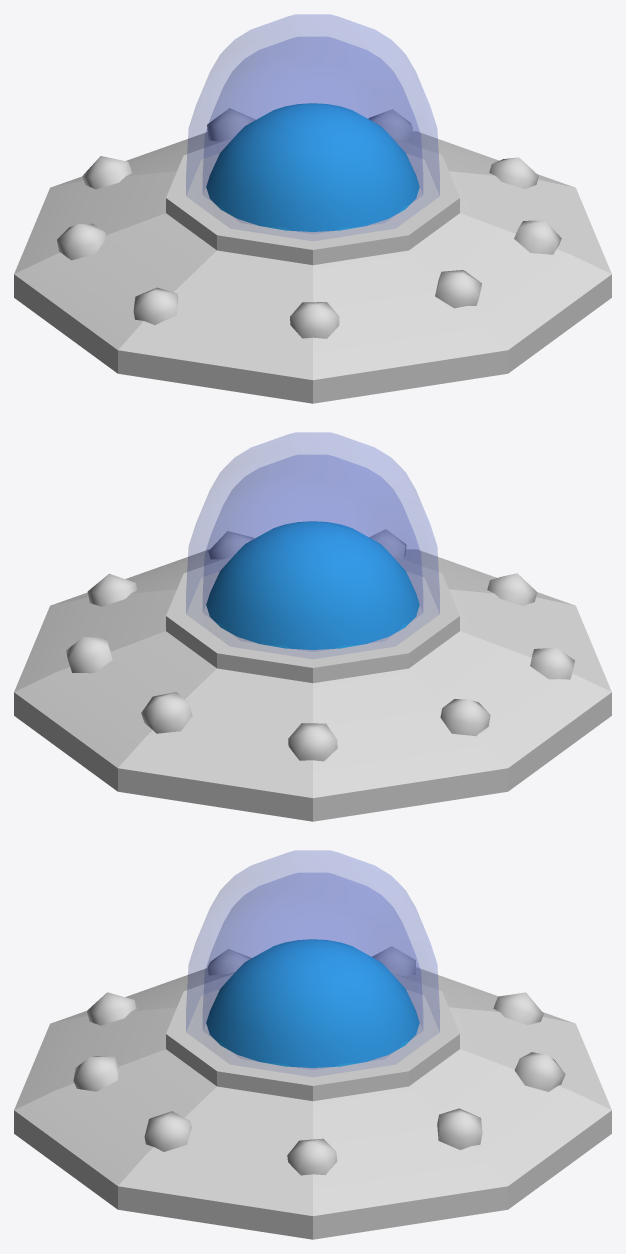
The model's file is UFOV2.FBX.
3 views of the same model, one above another, from view 1: azimuth 30°, elevation 25°; view 2: azimuth 150°, elevation 25°; view 3: azimuth 270°, elevation 25° (orthographic).
Visible parts, largest first — view 1: Object003, Capsule_2, Sphere, Capsule_003, Sphere009, Sphere010, Sphere013, Sphere008, Sphere011, Sphere012, Sphere005, Sphere007 (+1 smaller); view 2: Object003, Capsule_2, Sphere, Capsule_003, Sphere007, Sphere012, Sphere013, Sphere006, Sphere008, Sphere009, Sphere005, Sphere011 (+1 smaller); view 3: Object003, Capsule_2, Sphere, Capsule_003, Sphere006, Sphere011, Sphere005, Sphere007, Sphere010, Sphere012, Sphere009, Sphere013 (+1 smaller).
Boxes of the visible parts, x1,y1,x2,y2 form: Object003: (14,131,611,403); Capsule_2: (186,14,439,195); Sphere: (206,103,419,231); Capsule_003: (203,37,422,193); Sphere009: (290,302,339,338); Sphere010: (435,270,482,308); Sphere013: (57,223,106,260); Sphere008: (133,287,178,324); Sphere011: (514,220,561,254); Sphere012: (82,156,131,189); Sphere005: (489,157,538,188); Sphere007: (207,108,255,141); Object003: (14,549,611,821); Capsule_2: (186,432,439,613); Sphere: (206,521,419,649); Capsule_003: (203,455,422,611); Sphere007: (141,692,192,733); Sphere012: (288,723,337,761); Sphere013: (440,699,490,736); Sphere006: (66,637,112,673); Sphere008: (530,647,574,679); Sphere009: (487,573,537,605); Sphere005: (87,573,137,606); Sphere011: (208,531,253,559); Object003: (14,967,611,1239); Capsule_2: (186,850,439,1031); Sphere: (206,939,419,1067); Capsule_003: (203,873,422,1029); Sphere006: (437,1108,482,1149); Sphere011: (144,1111,191,1151); Sphere005: (287,1138,337,1175); Sphere007: (514,1052,565,1091); Sphere010: (73,1056,118,1091); Sphere012: (493,992,543,1024); Sphere009: (87,992,136,1025); Sphere013: (372,946,415,975).
Bounding box in the file's own units: 567 × 576 × 379.
